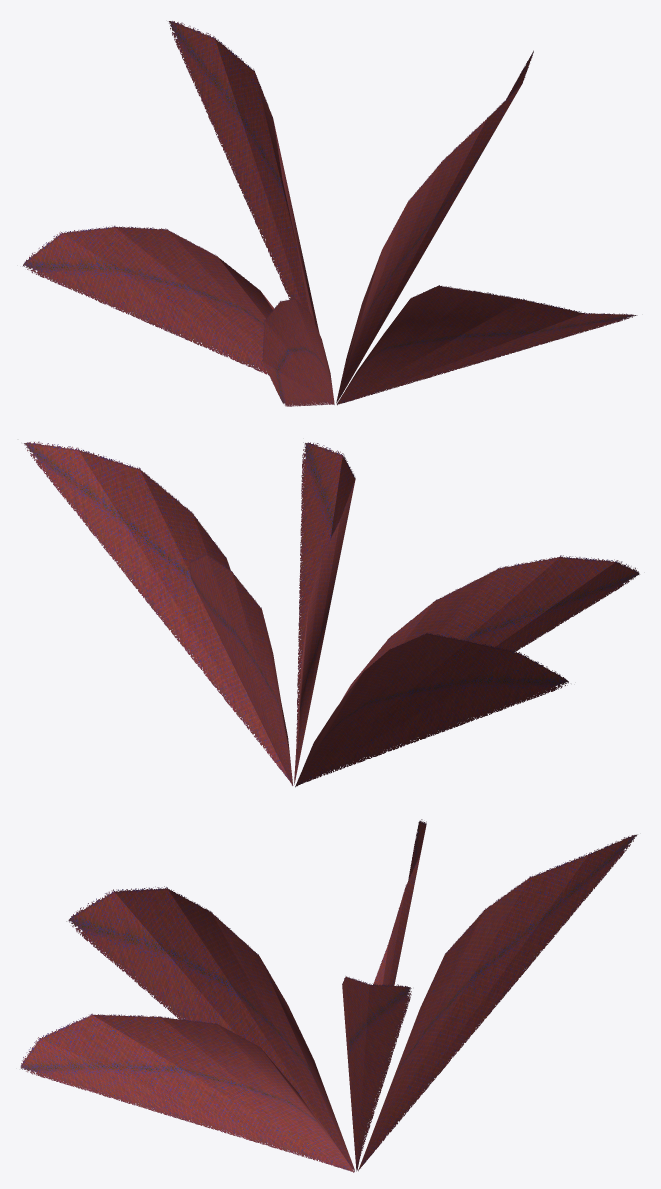
The model's file is veryred.obj.
3 views of the same model, one above another, from view 1: azimuth 30°, elevation 25°; view 2: azimuth 150°, elevation 25°; view 3: azimuth 270°, elevation 25° (orthographic). The views are drawn at different scales.
Bounding box in the file's own units: 14.52 × 8.04 × 14.14.
